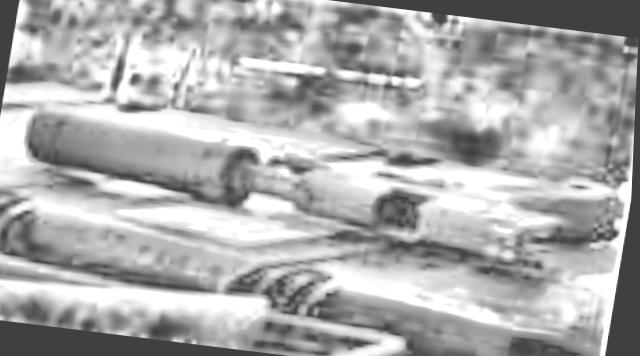pistol: (5, 84, 634, 278)
